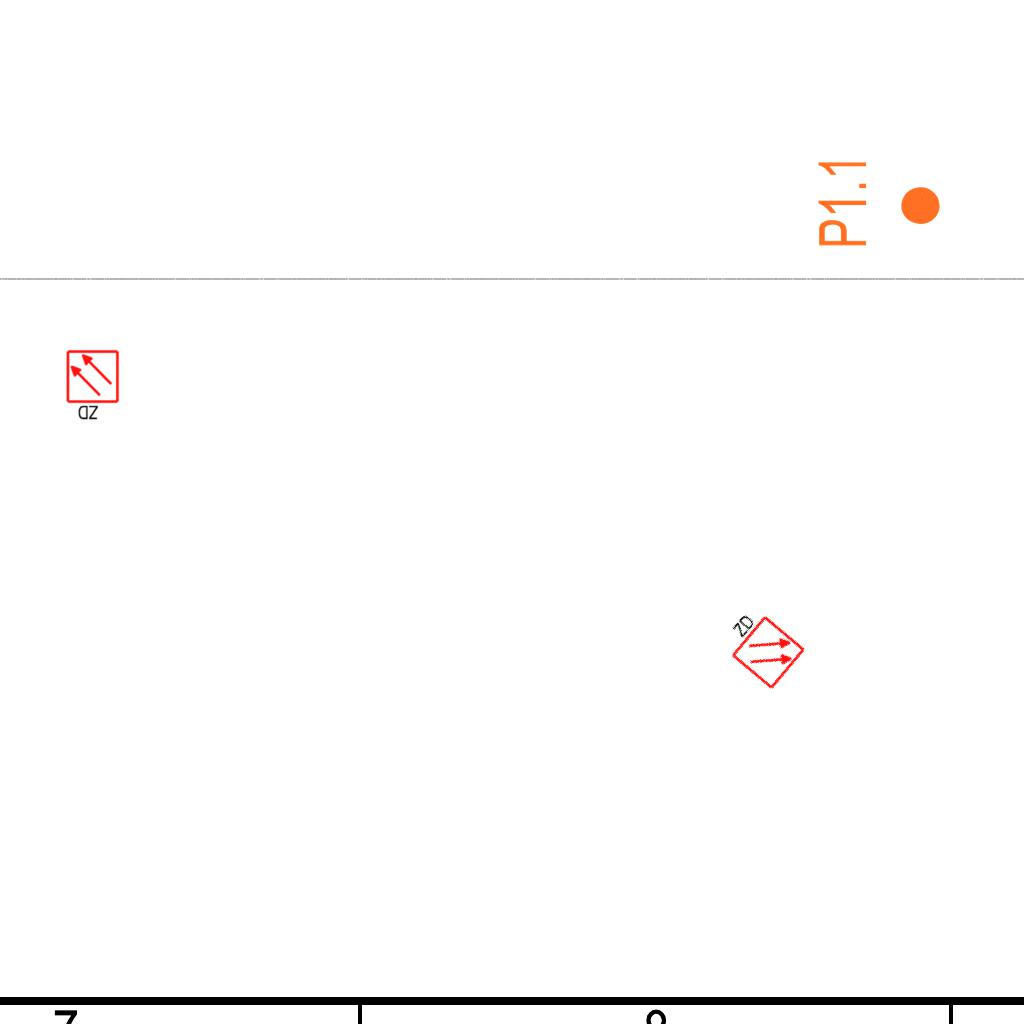Downlight_LED_Einbauleuchten_Flur: (815, 156, 943, 249)
ZD_Melder_in_Zwischendecke_mit_Revisionsoeffnung_mind_40_x_40_cm: (713, 601, 808, 693), (65, 349, 122, 423)
